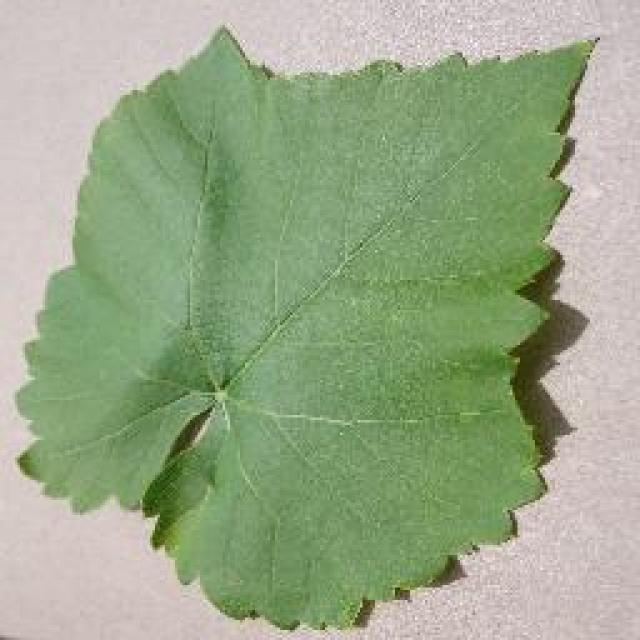Grape___healthy: (7, 22, 600, 636)
